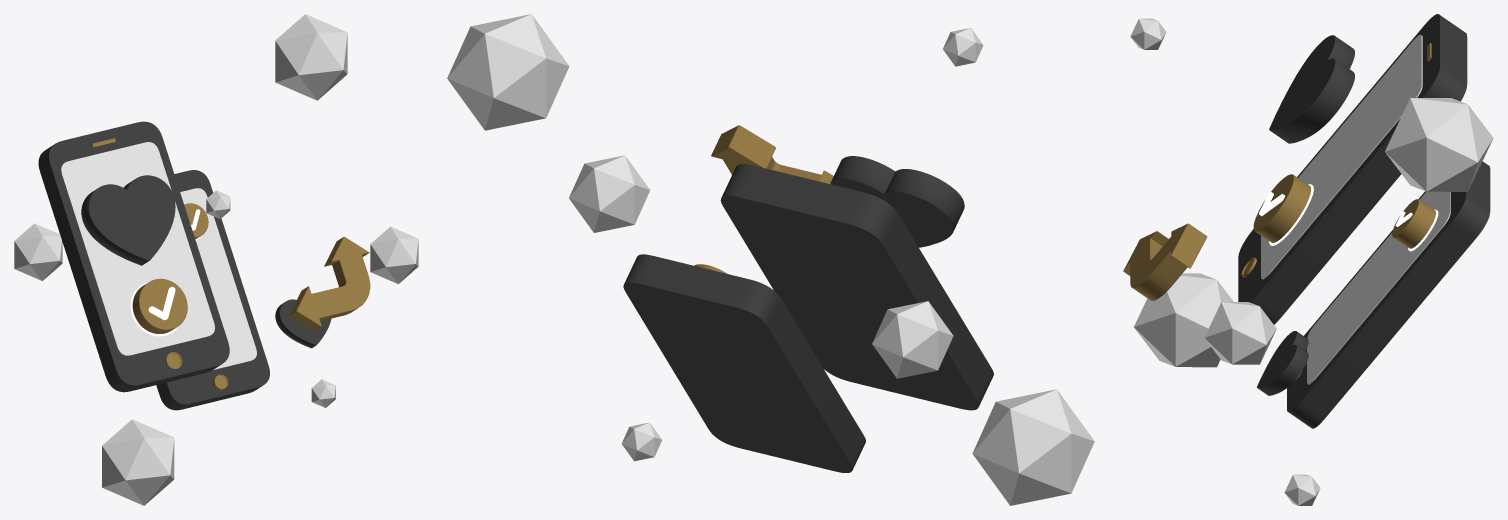
The model's file is modelDraco.gltf.
3 views of the same model, side by side, from view 1: azimuth 30°, elevation 25°; view 2: azimuth 150°, elevation 25°; view 3: azimuth 270°, elevation 25° (orthographic). The views are drawn at different scales.
Parts seen in each view (by area): view 1: Rectangle011, cgaxis_models_74_03_081, Layer_U+0421_U+043B_U+043E_U+0439_149, Rectangle012, Hedra001.002, Hedra001.004, cgaxis_models_74_03_082, Line877526548, Hedra001.001, Hedra001.005, Cylinder034, Layer_U+0421_U+043B_U+043E_U+0439_148 (+3 smaller); view 2: Rectangle011, Rectangle012, Hedra001.002, Hedra001.004, Layer_U+0421_U+043B_U+043E_U+0439_149, Hedra001.001, Hedra001.005, Line877526548, Hedra001.003, Hedra001; view 3: Rectangle011, Rectangle012, cgaxis_models_74_03_081, Hedra001.004, cgaxis_models_74_03_082, Hedra001.002, Layer_U+0421_U+043B_U+043E_U+0439_149, Line877526548, Hedra001.001, Cylinder034, Layer_U+0421_U+043B_U+043E_U+0439_148, Cylinder036 (+2 smaller).
Boxes of the visible parts, left/top/right/bottom form: Rectangle011: left=38, top=121, right=229, bottom=392; cgaxis_models_74_03_081: left=61, top=142, right=214, bottom=355; Layer_U+0421_U+043B_U+043E_U+0439_149: left=81, top=175, right=175, bottom=265; Rectangle012: left=156, top=170, right=269, bottom=410; Hedra001.002: left=102, top=419, right=174, bottom=505; Hedra001.004: left=275, top=14, right=347, bottom=100; cgaxis_models_74_03_082: left=180, top=188, right=256, bottom=369; Line877526548: left=289, top=236, right=370, bottom=331; Hedra001.001: left=370, top=226, right=418, bottom=284; Hedra001.005: left=14, top=223, right=62, bottom=280; Cylinder034: left=132, top=278, right=187, bottom=333; Layer_U+0421_U+043B_U+043E_U+0439_148: left=275, top=299, right=331, bottom=348; Rectangle011: left=720, top=164, right=993, bottom=410; Rectangle012: left=623, top=254, right=865, bottom=472; Hedra001.002: left=972, top=389, right=1094, bottom=505; Hedra001.004: left=447, top=14, right=569, bottom=130; Layer_U+0421_U+043B_U+043E_U+0439_149: left=830, top=156, right=964, bottom=247; Hedra001.001: left=569, top=155, right=650, bottom=232; Hedra001.005: left=872, top=301, right=953, bottom=378; Line877526548: left=711, top=125, right=833, bottom=183; Hedra001.003: left=621, top=422, right=661, bottom=461; Hedra001: left=943, top=28, right=983, bottom=66; Rectangle011: left=1238, top=14, right=1467, bottom=324; Rectangle012: left=1287, top=161, right=1490, bottom=428; cgaxis_models_74_03_081: left=1261, top=34, right=1422, bottom=279; Hedra001.004: left=1385, top=98, right=1493, bottom=191; cgaxis_models_74_03_082: left=1307, top=191, right=1450, bottom=384; Hedra001.002: left=1134, top=273, right=1233, bottom=367; Layer_U+0421_U+043B_U+043E_U+0439_149: left=1269, top=35, right=1354, bottom=143; Line877526548: left=1123, top=223, right=1207, bottom=300; Hedra001.001: left=1204, top=302, right=1276, bottom=364; Cylinder034: left=1253, top=174, right=1311, bottom=242; Layer_U+0421_U+043B_U+043E_U+0439_148: left=1256, top=331, right=1308, bottom=395; Cylinder036: left=1392, top=199, right=1435, bottom=248.
Size of the model in its own units: 309 by 298 by 231.
